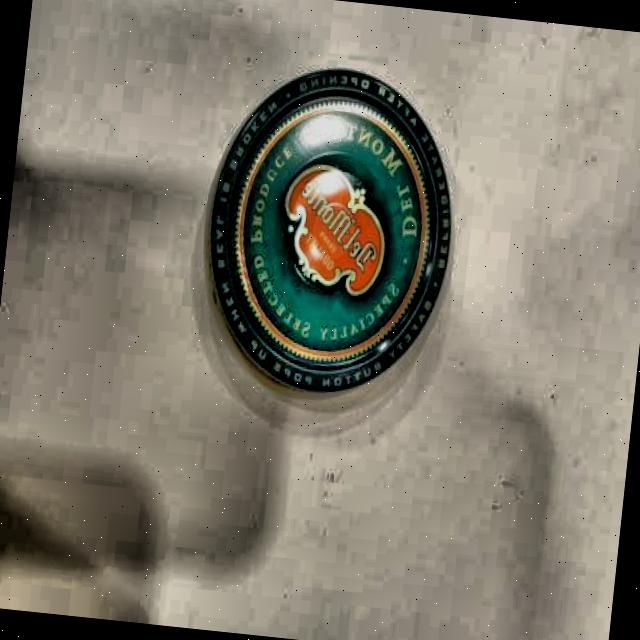metal: (188, 55, 466, 401)
